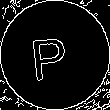P_N: (34, 28, 76, 82)
